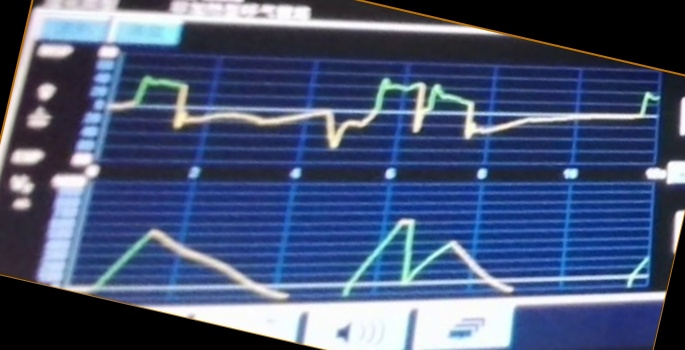Double_Triggering Flow: (121, 70, 562, 163)
Double_Triggering Volume: (91, 211, 566, 298)
